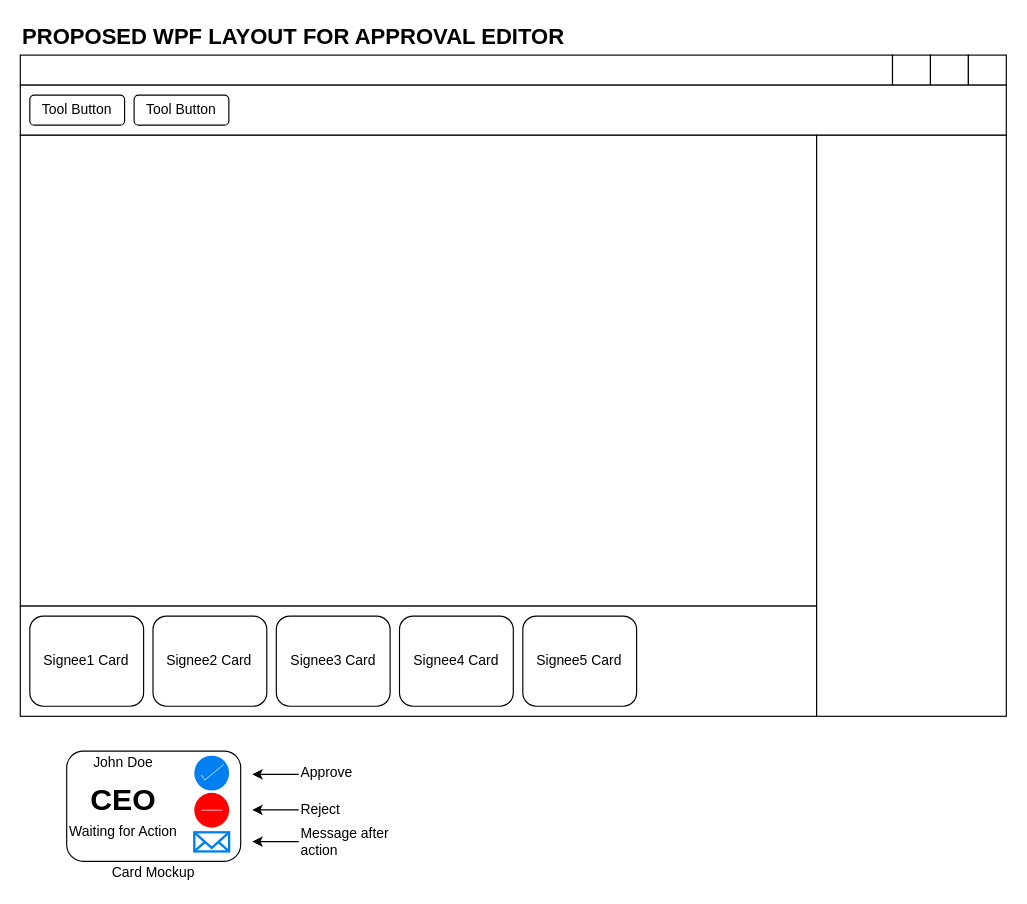
This 1027x904 diagram has some shape labels left out. The shapes that lost their labels are listed below. From the top down, each one's box as (x1, y1, x2, y2) in pixels, then its label:
(19, 134, 817, 606): Module Approval Control Rendered Here
(815, 134, 1006, 716): User Chat Area
